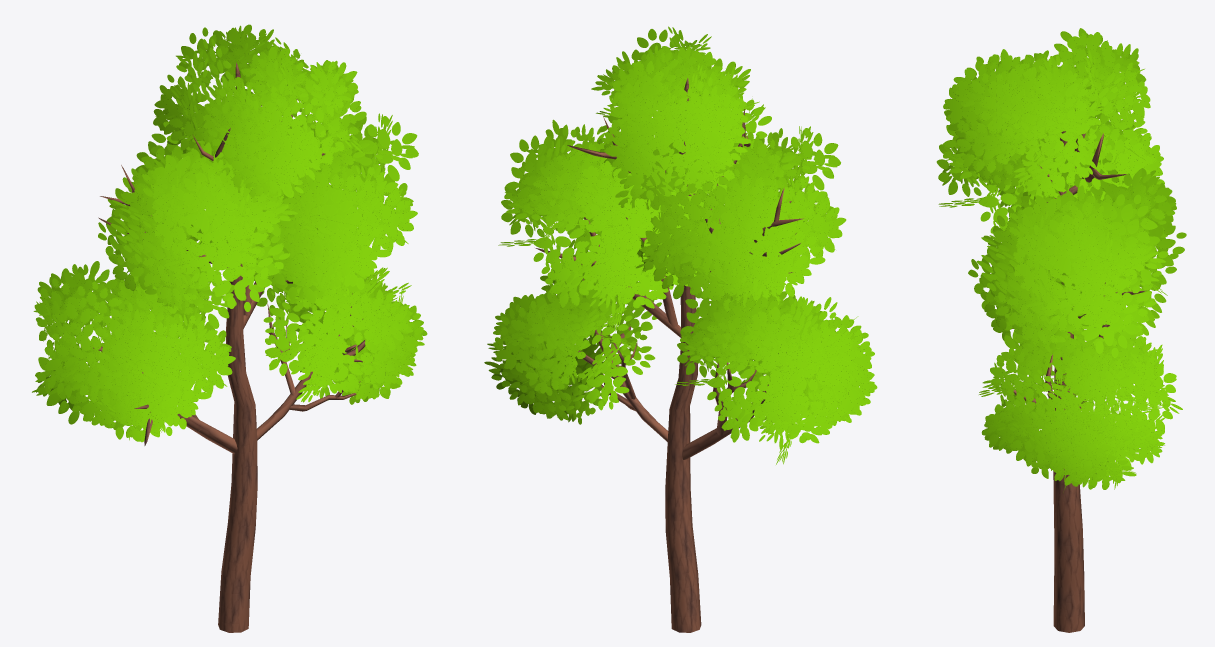
File: tree-2.glb
3 views of the same model, side by side, from view 1: azimuth 30°, elevation 25°; view 2: azimuth 150°, elevation 25°; view 3: azimuth 270°, elevation 25° (orthographic). The views are drawn at different scales.
Parts seen in each view (by area): view 1: NormalTree_2; view 2: NormalTree_2; view 3: NormalTree_2.
Part boxes in pixels (x1,y1,x2,y2): NormalTree_2: [32, 24, 427, 632]; NormalTree_2: [484, 26, 877, 632]; NormalTree_2: [936, 28, 1186, 632].
Size of the model in its own units: 4.55 by 6.56 by 2.79.
Materials: 2 (2 with a texture image).
